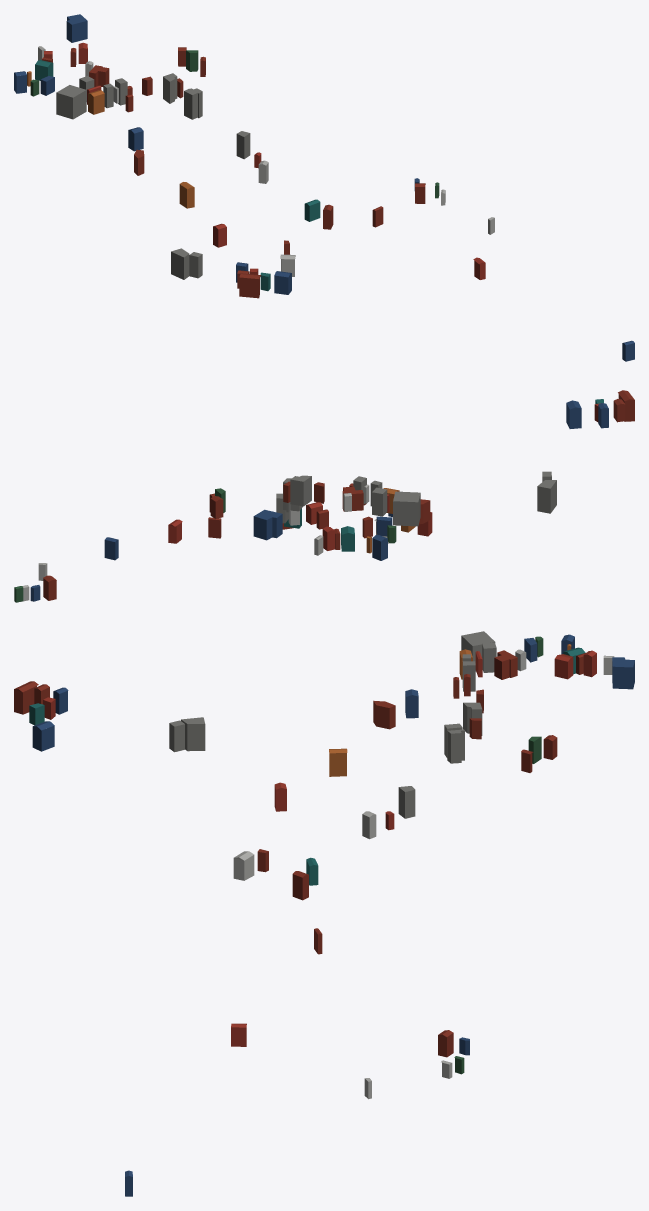
The model's file is near-16-54729-29726.28677a67.glb.
3 renders of one model, top to bottom at view 1: azimuth 30°, elevation 25°; view 2: azimuth 150°, elevation 25°; view 3: azimuth 270°, elevation 25°, orthographic. The views are drawn at different scales.
Bounding box in the file's own units: 531 × 319 × 547.
